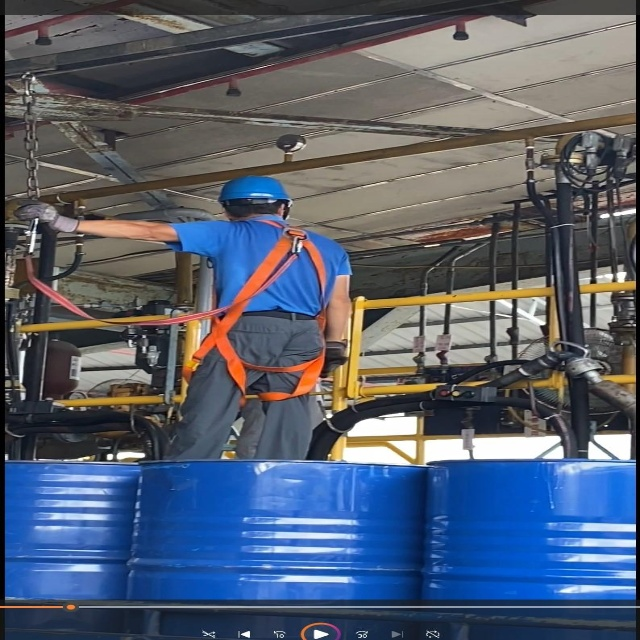Arnes_seguridad: (182, 220, 332, 407)
